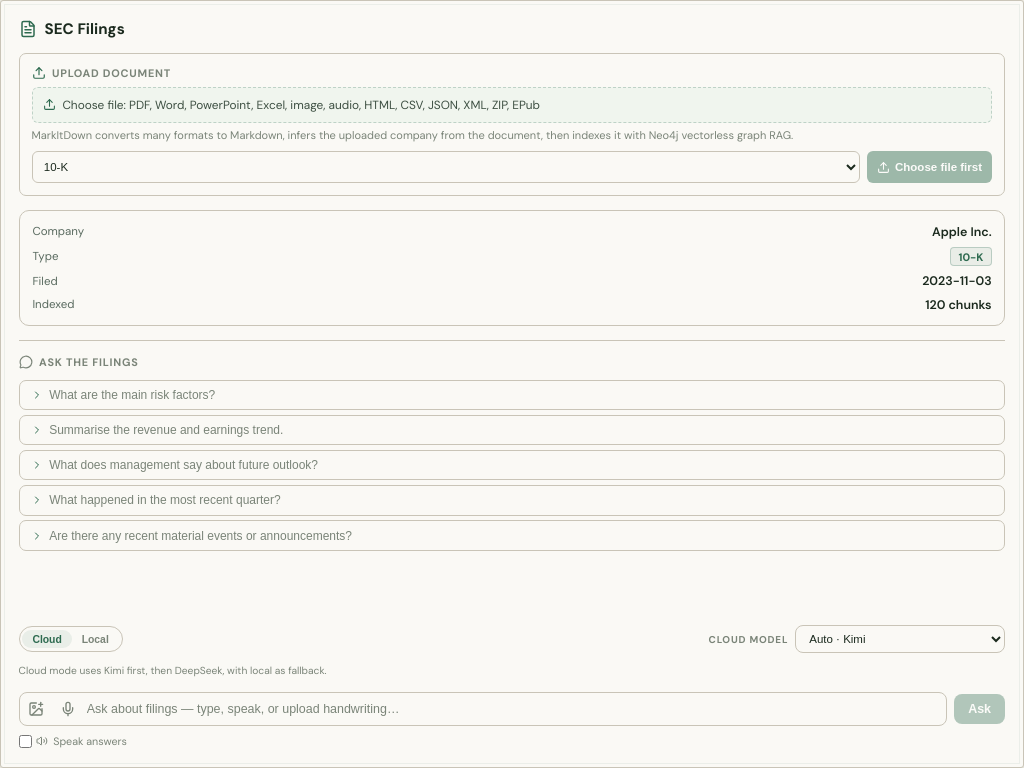
Test: FilingPanel › sends question and displays answer
Type "What are the risks?" into the field with placeholder "Ask about filings — type, speak, or upload handwriting…".
click(515, 709); type("What are the risks?")  # box [84,694,946,724]
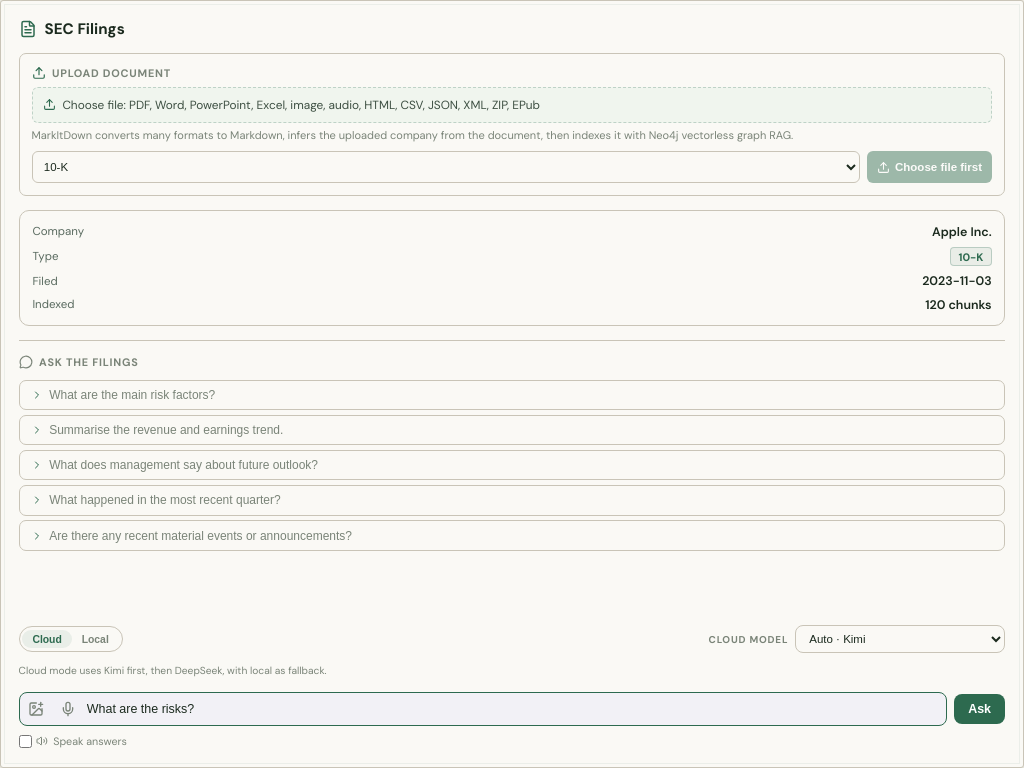
Click the button "Ask".
click(980, 709)  # box [954,694,1006,724]
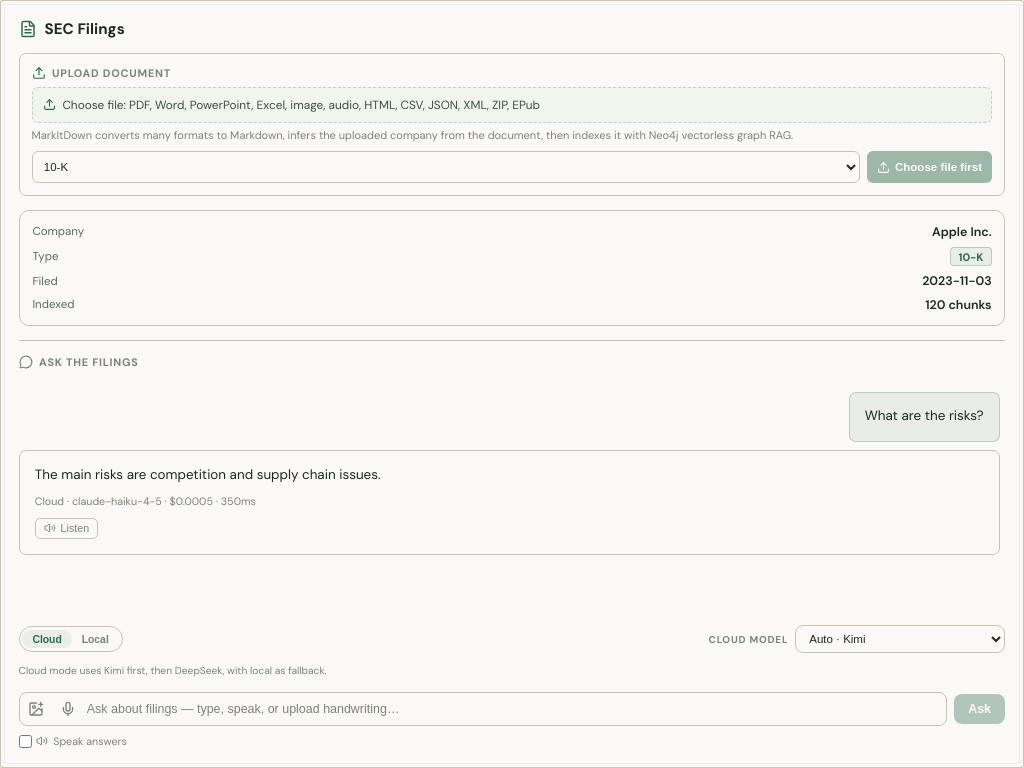
Now the text "The main risks are competition and supply chain issues." is shown, box [35,466,381,483]
